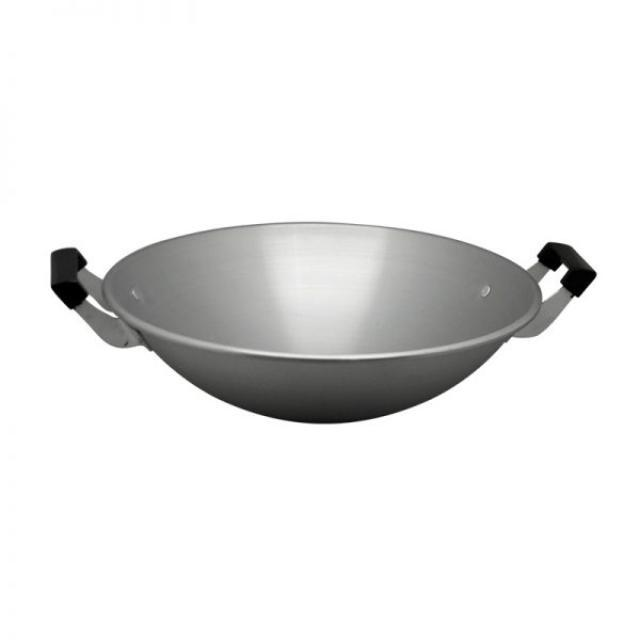Dry Waste: (16, 170, 614, 470)
